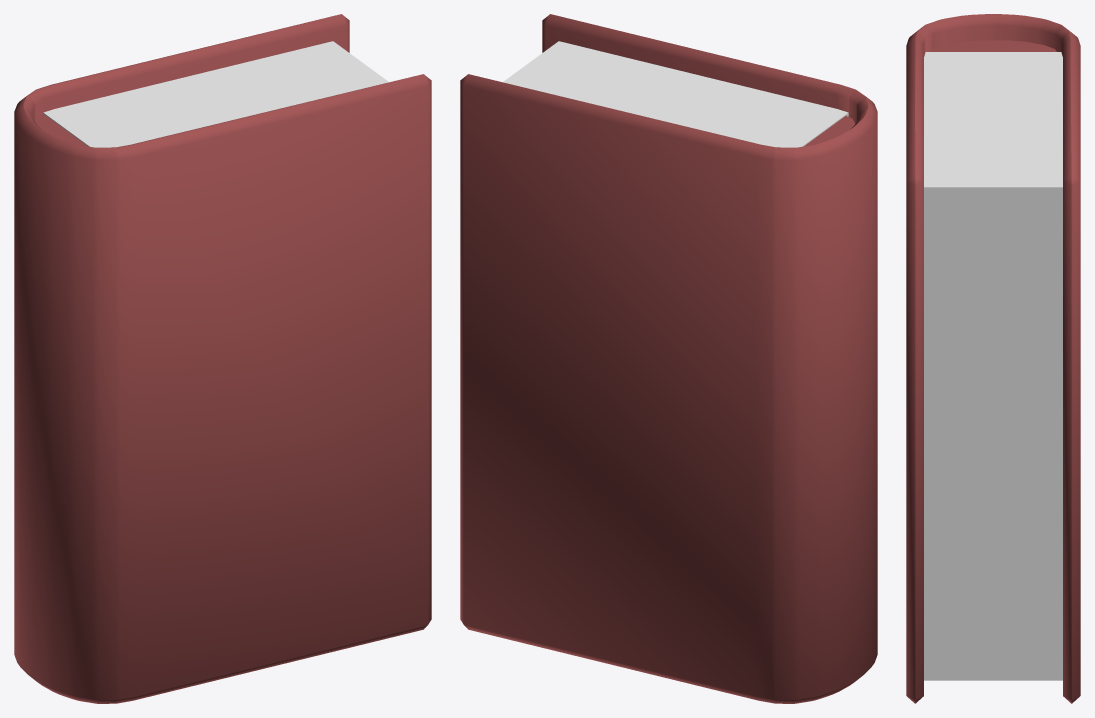
File: book-brown.fbx
The picture shows the model from 3 angles, left to right: view 1: azimuth 30°, elevation 25°; view 2: azimuth 150°, elevation 25°; view 3: azimuth 270°, elevation 25°; orthographic projection. The views are drawn at different scales.
Visible parts, largest first — view 1: Book.002; view 2: Book.002; view 3: Book.002.
Boxes of the visible parts, x1=… form: Book.002: x1=14, y1=14, x2=431, y2=703; Book.002: x1=460, y1=14, x2=877, y2=703; Book.002: x1=906, y1=14, x2=1080, y2=703.
Bounding box in the file's own units: 82.35 × 122 × 36.22.
1 material, 1 textured.
